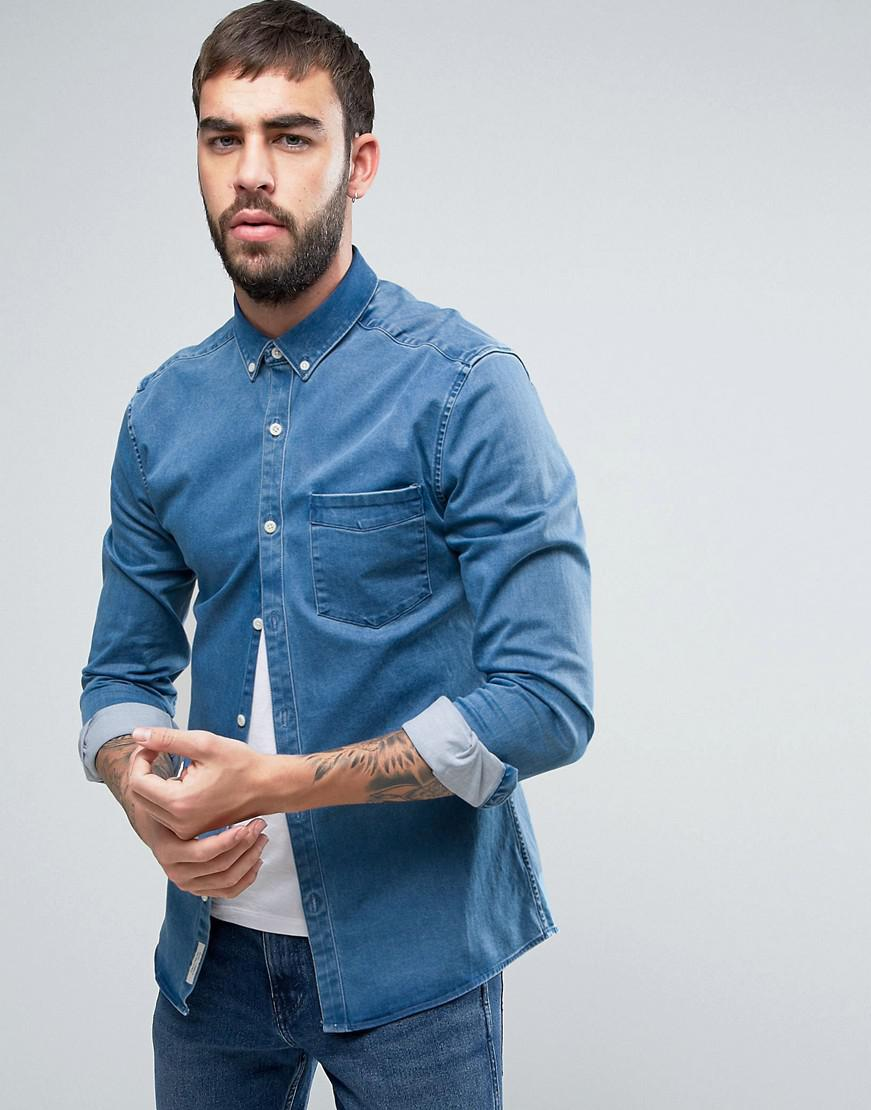teeshirt: (66, 257, 596, 995)
